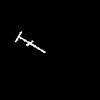double_crochet: (15, 32, 44, 52)
